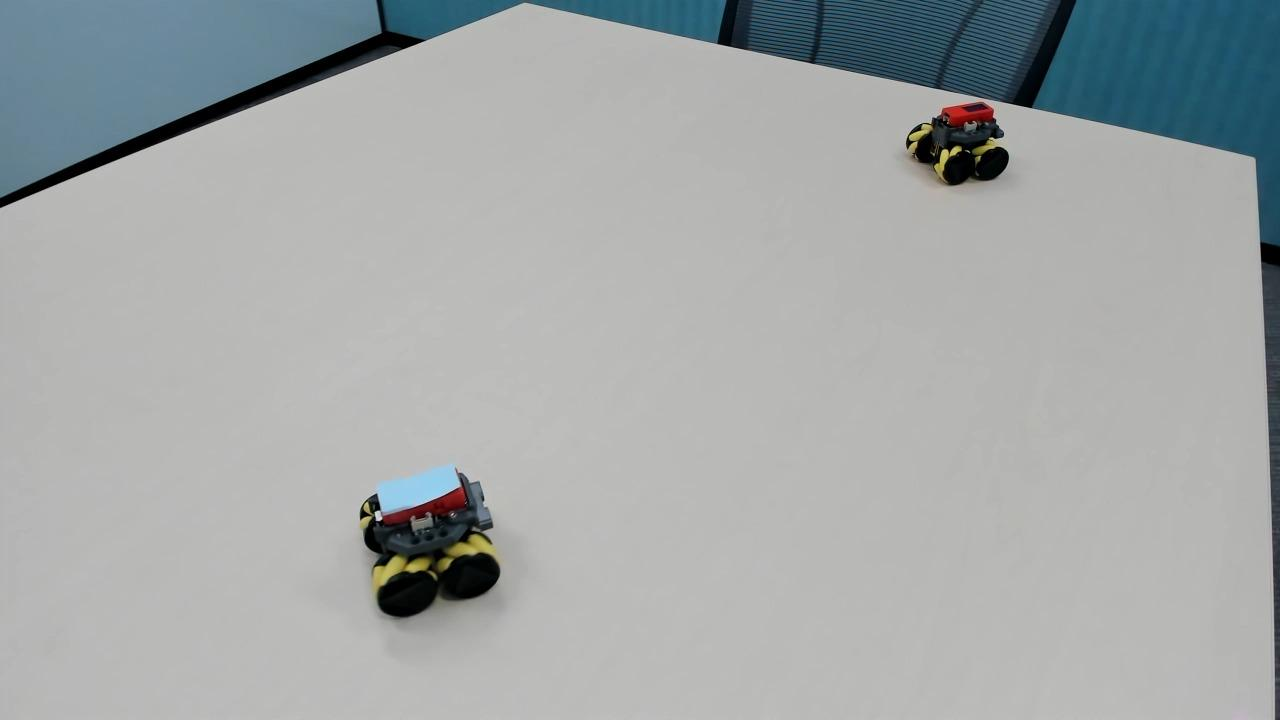B-Robot: (349, 454, 526, 634)
R-Robot: (894, 95, 1021, 194)
